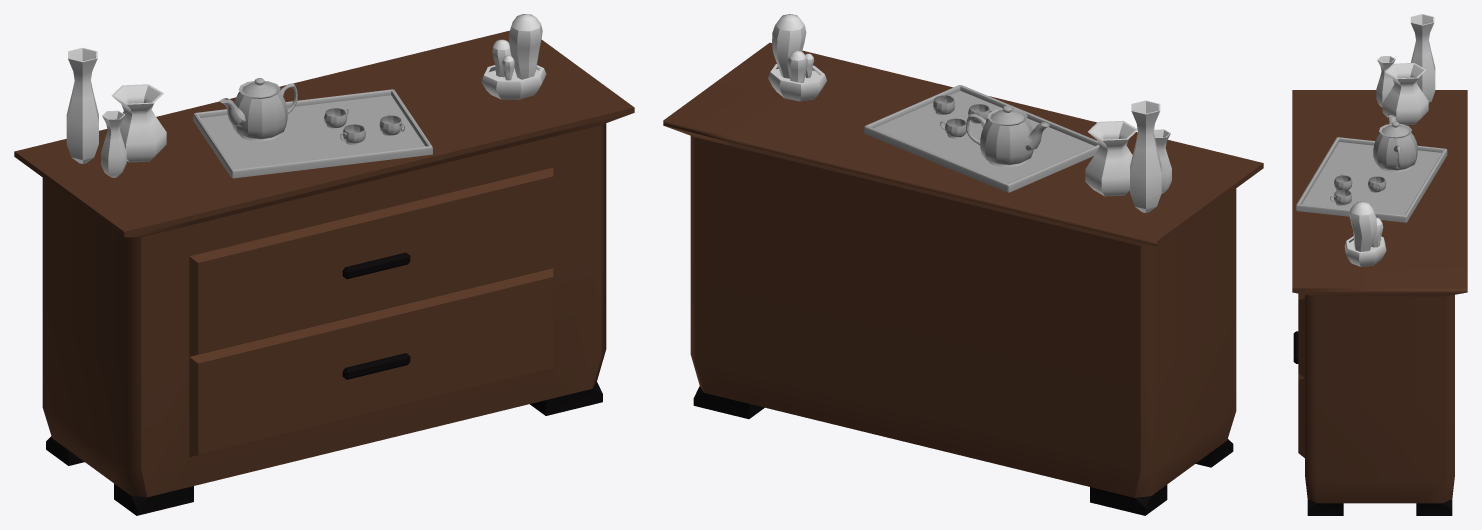
The model's file is Dresser (1).fbx.
3 renders of one model, left to right at view 1: azimuth 30°, elevation 25°; view 2: azimuth 150°, elevation 25°; view 3: azimuth 270°, elevation 25°, orthographic. The views are drawn at different scales.
Visible parts, largest first — view 1: Dresser, Tray, Vases, Teapot, Cactus, Pot, Teacups; view 2: Dresser, Tray, Vases, Teapot, Cactus, Pot, Teacups; view 3: Dresser, Tray, Vases, Teapot, Cactus, Teacups, Pot.
Part boxes in pixels (left/top/right/bottom): Dresser: left=14, top=30, right=634, bottom=515; Tray: left=193, top=89, right=432, bottom=178; Vases: left=66, top=47, right=166, bottom=177; Teapot: left=220, top=78, right=297, bottom=141; Cactus: left=492, top=14, right=542, bottom=80; Pot: left=481, top=65, right=546, bottom=99; Teacups: left=324, top=108, right=404, bottom=145; Dresser: left=663, top=42, right=1263, bottom=515; Tray: left=864, top=85, right=1099, bottom=192; Vases: left=1085, top=100, right=1171, bottom=212; Teapot: left=966, top=105, right=1050, bottom=167; Cactus: left=772, top=14, right=814, bottom=82; Pot: left=768, top=64, right=826, bottom=101; Teacups: left=933, top=93, right=992, bottom=138; Dresser: left=1292, top=90, right=1467, bottom=515; Tray: left=1296, top=137, right=1447, bottom=222; Vases: left=1376, top=14, right=1435, bottom=124; Teapot: left=1373, top=115, right=1417, bottom=172; Cactus: left=1349, top=201, right=1383, bottom=251; Teacups: left=1330, top=174, right=1386, bottom=206; Pot: left=1344, top=236, right=1386, bottom=266.
Size of the model in its own units: 691 by 522 by 258.
